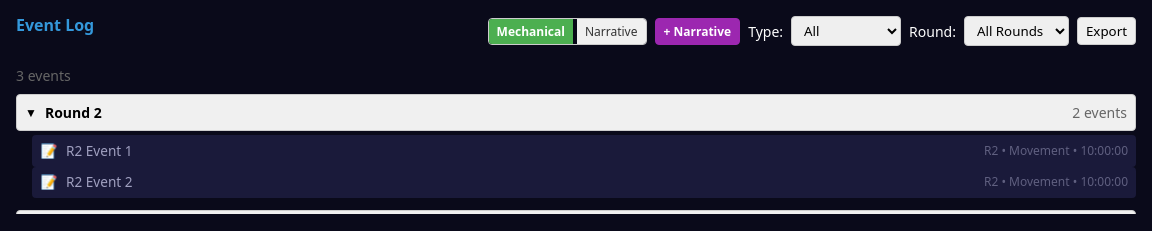
EventLog › collapsible rounds › should expand round when header is clicked
The width and height of the screenshot is (1152, 231).
// Rounds start expanded by default, so collapse first
Click the button "▼ Round 2 2 events": x=69, y=112 [16,94,1136,131]
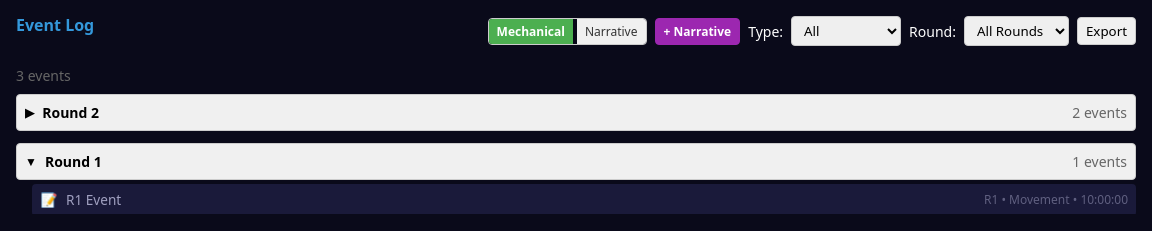
Expected: the text "R2 Event 1" is gone
// Then expand
Click the button "▶ Round 2 2 events": x=67, y=112 [16,94,1136,131]
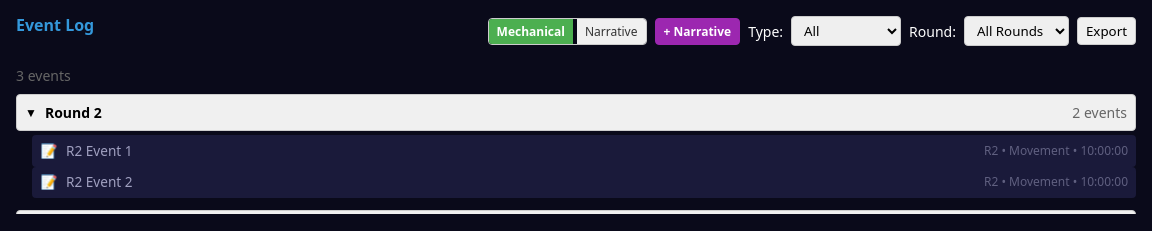
Expected: the text "R2 Event 1" is shown, [66,141,132,160]
Expected: the text "R2 Event 2" is shown, [66,172,132,191]
